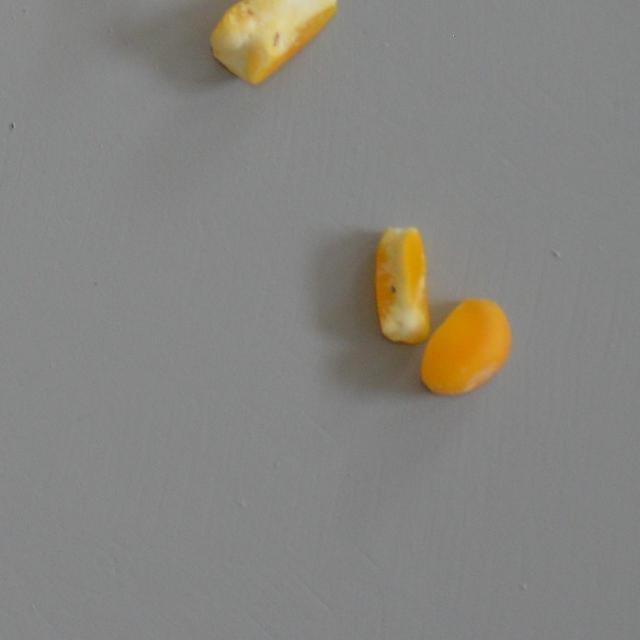dañado: (206, 0, 338, 87)
estandar: (426, 292, 505, 406)
punto_negro: (372, 224, 432, 345)
